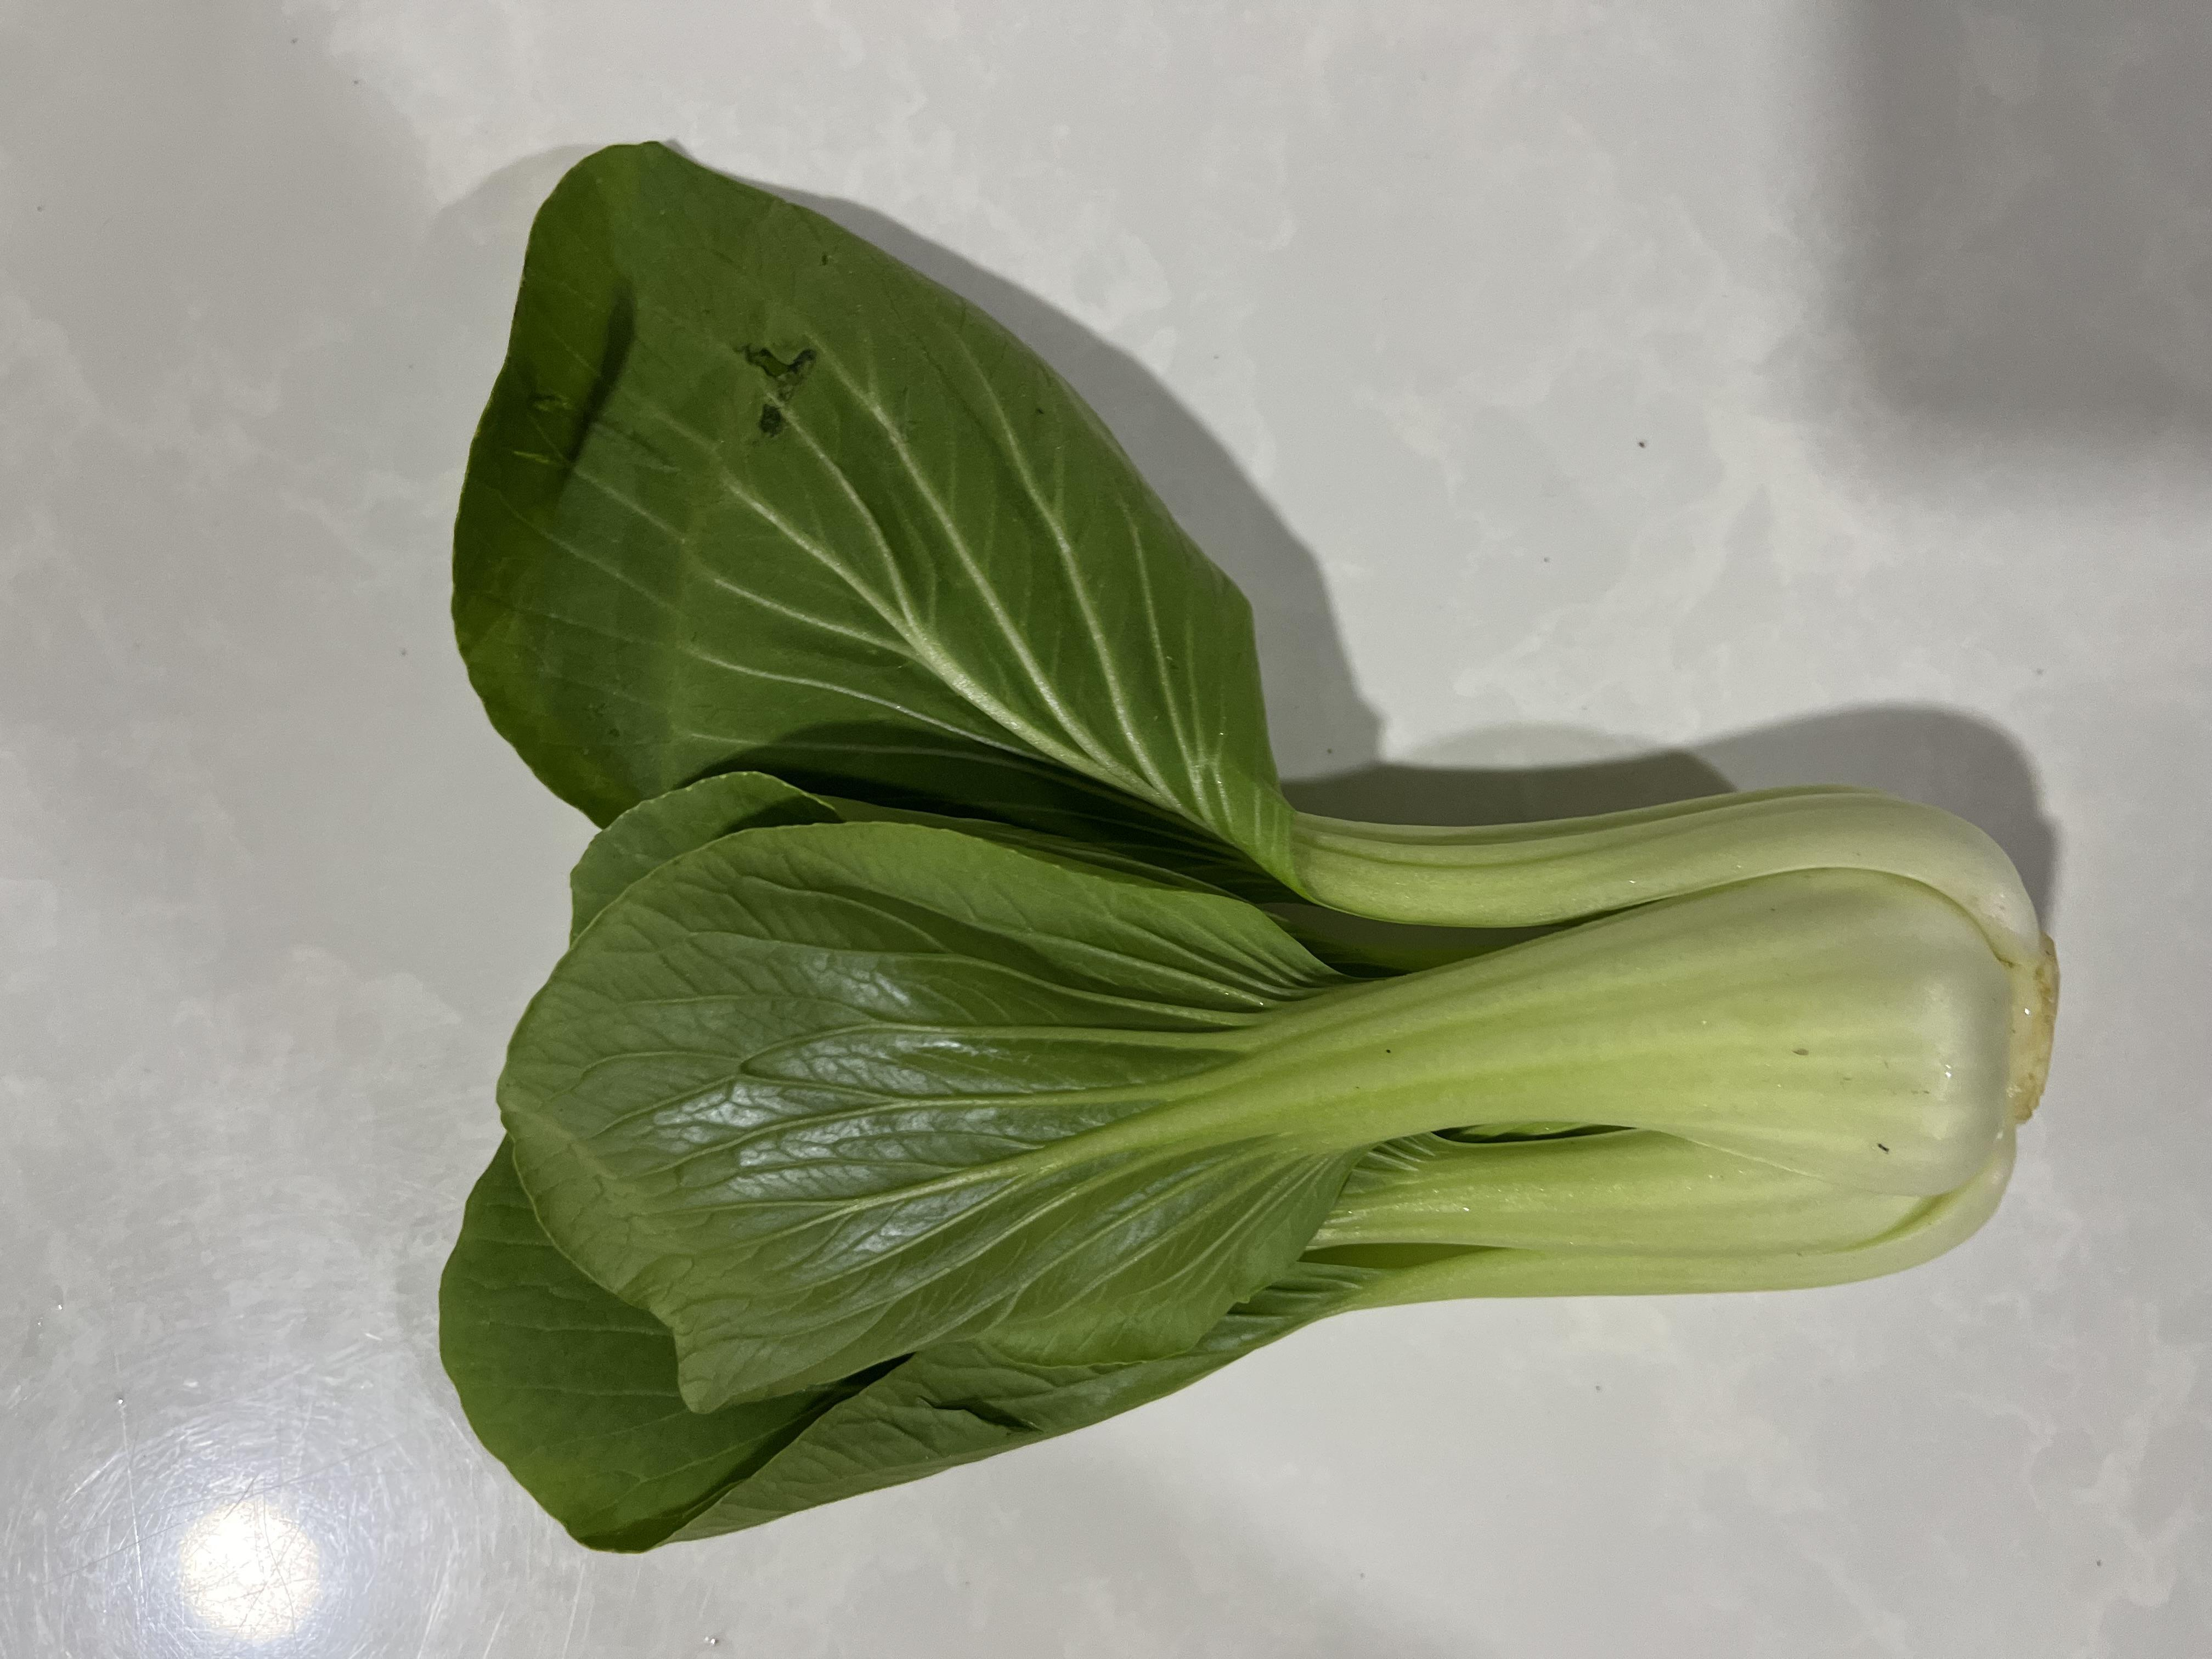Healthy-Pechay: (334, 159, 2074, 1547)
